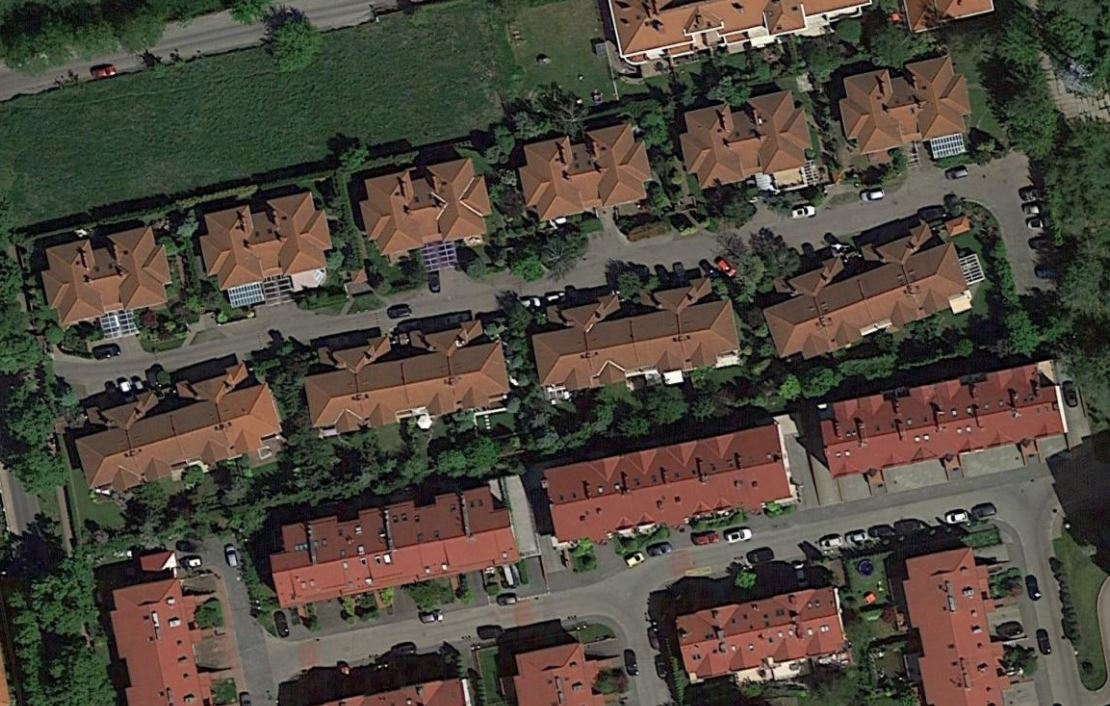terrace house: (811, 349, 1071, 496), (540, 419, 805, 558), (272, 471, 530, 613), (66, 361, 289, 505), (295, 316, 520, 447), (766, 220, 978, 357), (530, 286, 757, 407), (891, 541, 1017, 706), (673, 583, 858, 689), (828, 49, 987, 162), (103, 569, 223, 706), (358, 151, 492, 265), (197, 186, 335, 296), (37, 224, 178, 331), (516, 113, 655, 221), (674, 89, 815, 191), (500, 634, 623, 706), (304, 662, 480, 706)
